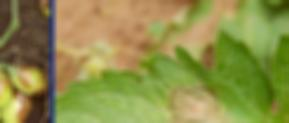Tomato leaf late blight: (56, 34, 289, 123)
